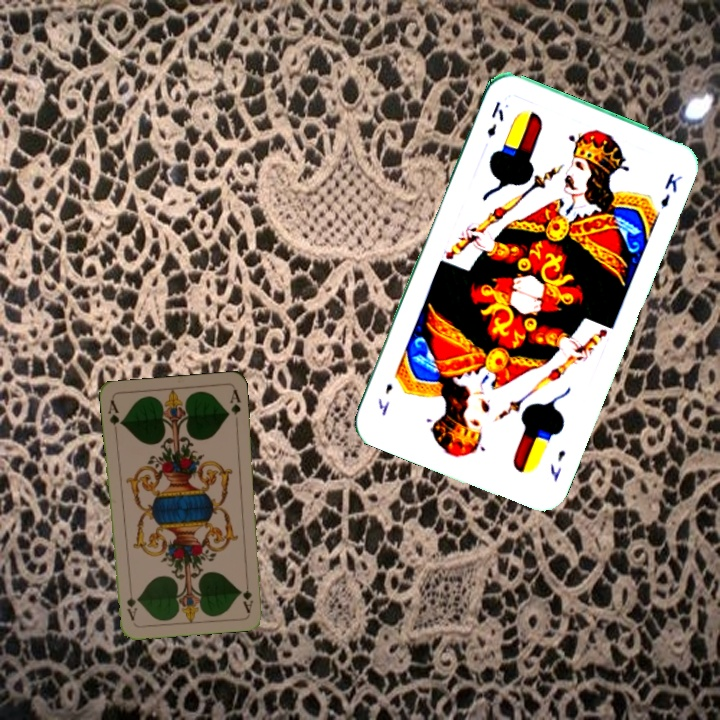EK: (482, 97, 507, 140), (545, 446, 568, 484)
GA: (104, 396, 124, 436), (240, 574, 255, 615)
